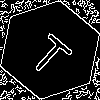T: (25, 25, 80, 80)
